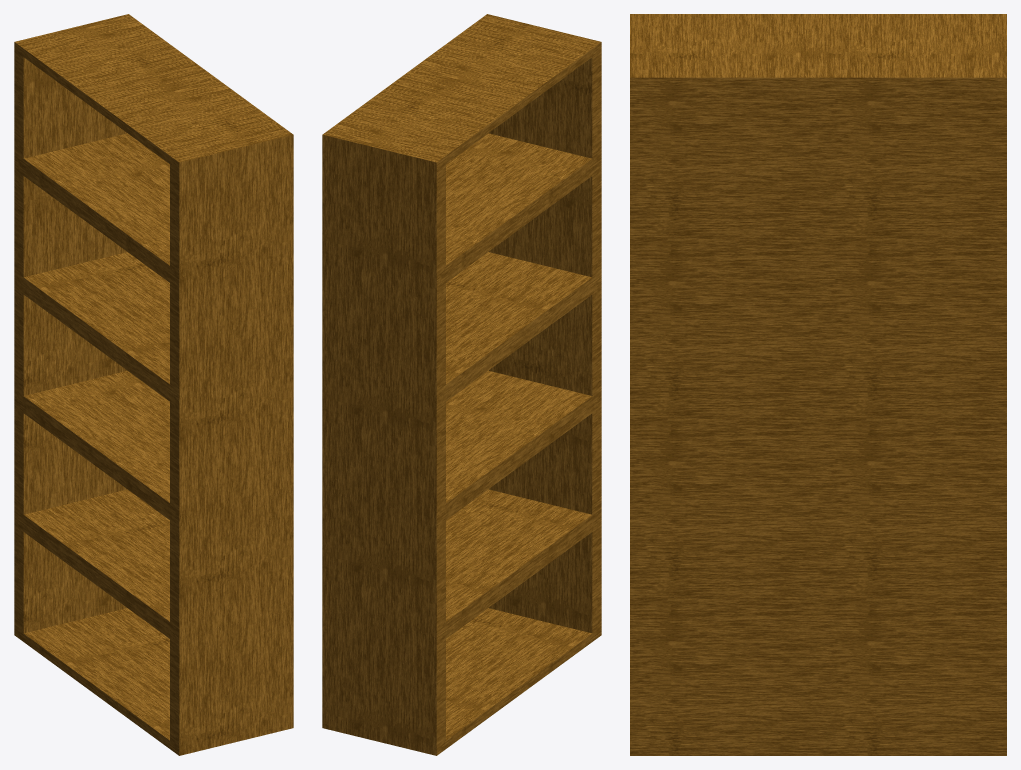
The model's file is Cabinet.FBX.
The picture shows the model from 3 angles, left to right: view 1: azimuth 30°, elevation 25°; view 2: azimuth 150°, elevation 25°; view 3: azimuth 270°, elevation 25°; orthographic projection. The views are drawn at different scales.
Parts seen in each view (by area): view 1: Box001; view 2: Box001; view 3: Box001.
Part boxes in pixels (left/top/right/bottom): Box001: left=14, top=14, right=293, bottom=755; Box001: left=322, top=14, right=601, bottom=755; Box001: left=630, top=14, right=1006, bottom=755.
Bounding box in the file's own units: 35.84 × 178 × 89.54.
Materials: 1 (1 with a texture image).
